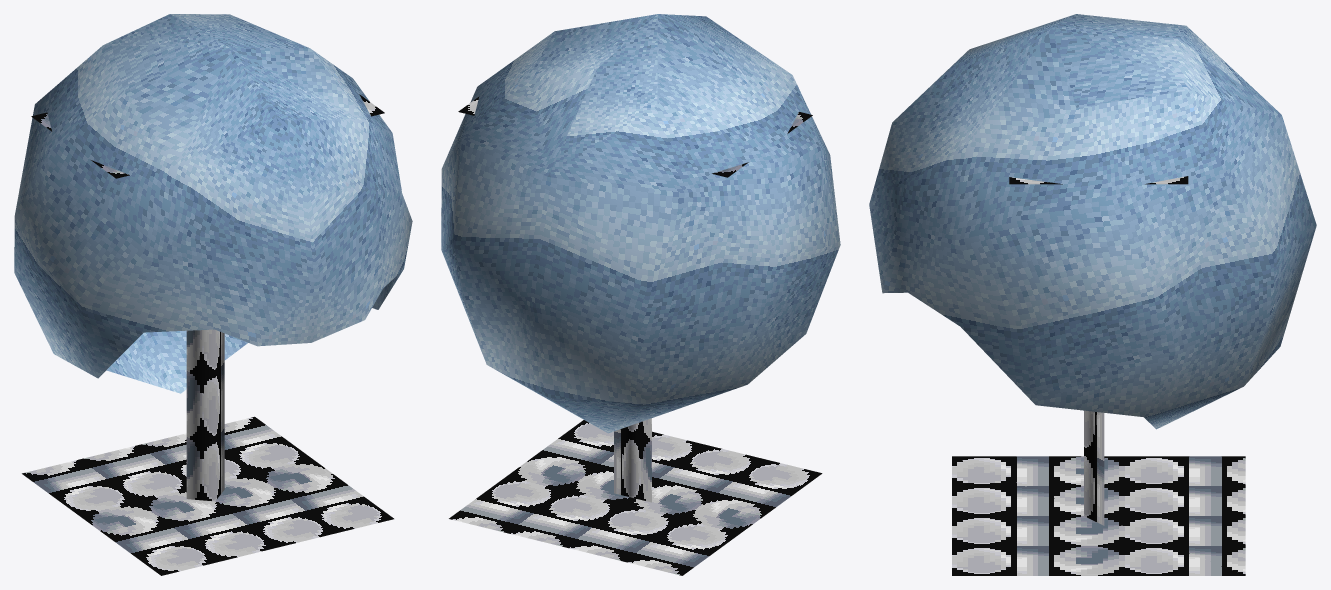
File: 2912head045_c.gltf
The picture shows the model from 3 angles, left to right: view 1: azimuth 30°, elevation 25°; view 2: azimuth 150°, elevation 25°; view 3: azimuth 270°, elevation 25°; orthographic projection. The views are drawn at different scales.
Visible parts, largest first — view 1: 2912head045_c; view 2: 2912head045_c; view 3: 2912head045_c.
Part boxes in pixels (x1,y1,x2,y2): 2912head045_c: (14,14,412,575); 2912head045_c: (441,14,840,575); 2912head045_c: (869,14,1316,575).
Bounding box in the file's own units: 0.7017 × 0.8879 × 0.7312.
Materials: 2 (2 with a texture image).
